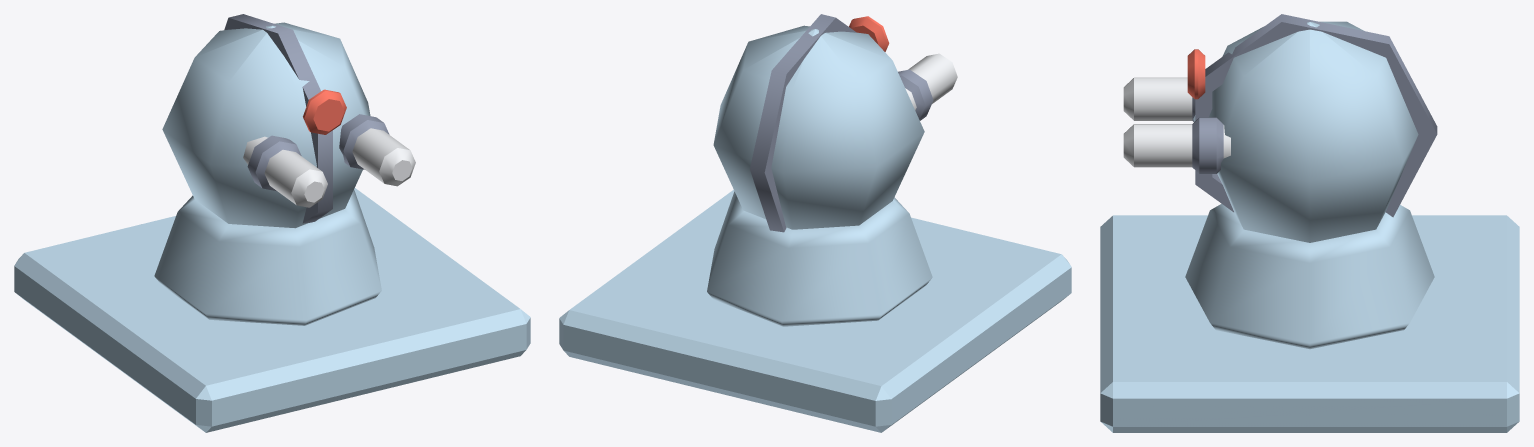
The model's file is R4X_PointDefense_LOD1.glb.
3 renders of one model, left to right at view 1: azimuth 30°, elevation 25°; view 2: azimuth 150°, elevation 25°; view 3: azimuth 270°, elevation 25°, orthographic. The views are drawn at different scales.
Visible parts, largest first — view 1: R4X_PointDefense_LOD1; view 2: R4X_PointDefense_LOD1; view 3: R4X_PointDefense_LOD1.
Boxes of the visible parts, box(x1,y1,x2,y2) form: R4X_PointDefense_LOD1: box(14, 14, 530, 432); R4X_PointDefense_LOD1: box(559, 14, 1071, 432); R4X_PointDefense_LOD1: box(1100, 14, 1519, 432).
Size of the model in its own units: 0.52 by 0.454 by 0.52.
